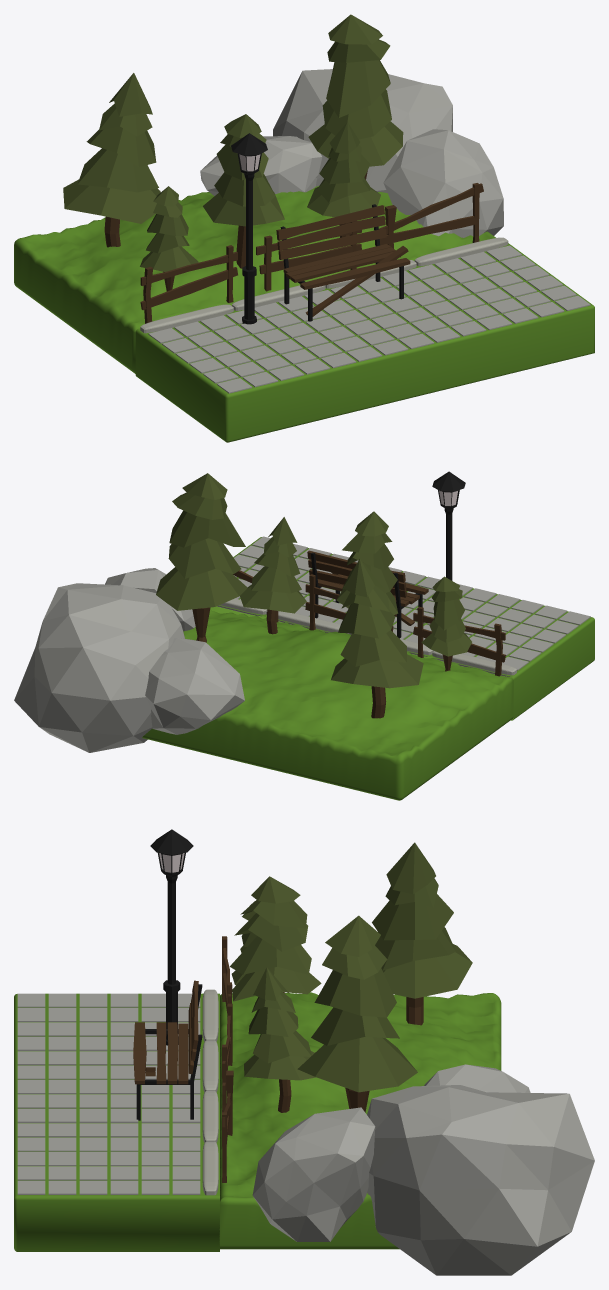
Rendered from park.fbx.
3 views of the same model, one above another, from view 1: azimuth 30°, elevation 25°; view 2: azimuth 150°, elevation 25°; view 3: azimuth 270°, elevation 25° (orthographic). The views are drawn at different scales.
Parts seen in each view (by area): view 1: SideWalk, Ground, Grass, Tree, Rock2, Tree2, Bank, Rock, Cube.001, Tree1, Tree.001, Rock1 (+3 smaller); view 2: Grass, Rock, SideWalk, Tree2, Tree, Rock1, Ground, Tree.001, Tree1, Tree2.001, Cube.001, Bank (+3 smaller); view 3: Rock, SideWalk, Grass, Ground, Rock2, Tree2, Tree, Tree1, Tree.001, Bank, Cube, Lamp (+2 smaller).
Part boxes in pixels (x1,y1,x2,y2): SideWalk: [148, 245, 590, 393]; Ground: [135, 243, 594, 442]; Grass: [14, 186, 495, 373]; Tree: [63, 73, 160, 247]; Rock2: [383, 129, 503, 237]; Tree2: [308, 14, 403, 179]; Bank: [276, 204, 410, 321]; Rock: [273, 69, 452, 192]; Cube.001: [140, 183, 483, 323]; Tree1: [203, 114, 284, 268]; Tree.001: [307, 122, 380, 237]; Rock1: [200, 136, 322, 195]; Grass: [142, 610, 513, 800]; Rock: [14, 583, 184, 752]; SideWalk: [234, 536, 590, 670]; Tree2: [156, 473, 247, 642]; Tree: [331, 558, 423, 718]; Rock1: [145, 638, 244, 734]; Ground: [210, 537, 594, 720]; Tree.001: [240, 517, 306, 634]; Tree1: [336, 511, 398, 614]; Tree2.001: [421, 576, 471, 671]; Cube.001: [233, 570, 505, 676]; Bank: [307, 550, 428, 638]; Rock: [367, 1085, 594, 1275]; SideWalk: [17, 993, 200, 1194]; Grass: [219, 992, 501, 1249]; Ground: [14, 993, 219, 1251]; Rock2: [252, 1107, 375, 1241]; Tree2: [297, 915, 417, 1112]; Tree: [372, 842, 472, 1025]; Tree1: [230, 876, 321, 1001]; Tree.001: [244, 967, 315, 1112]; Bank: [133, 980, 202, 1120]; Cube: [202, 989, 218, 1195]; Lamp: [150, 829, 193, 1045].
Bounding box in the file's own units: 4.45 × 2.89 × 4.8.
